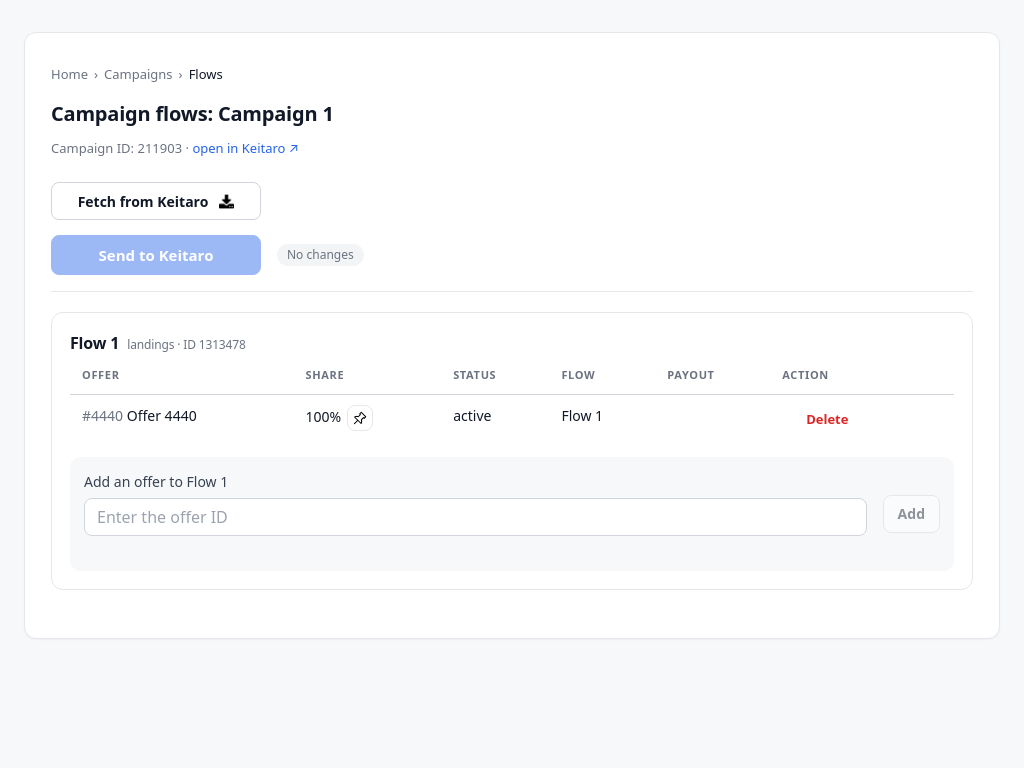
Test case: StreamsContent — weight pins › PUT pins error (500): rollback — the pin is removed, the error text in the flow card
The width and height of the screenshot is (1024, 768).
Expected: the text "#4440" is shown, left=82, top=406, right=123, bottom=424
Click the button named "Pin the weight of offer #4440 in flow Flow 1" at (360, 418), box left=347, top=404, right=373, bottom=430
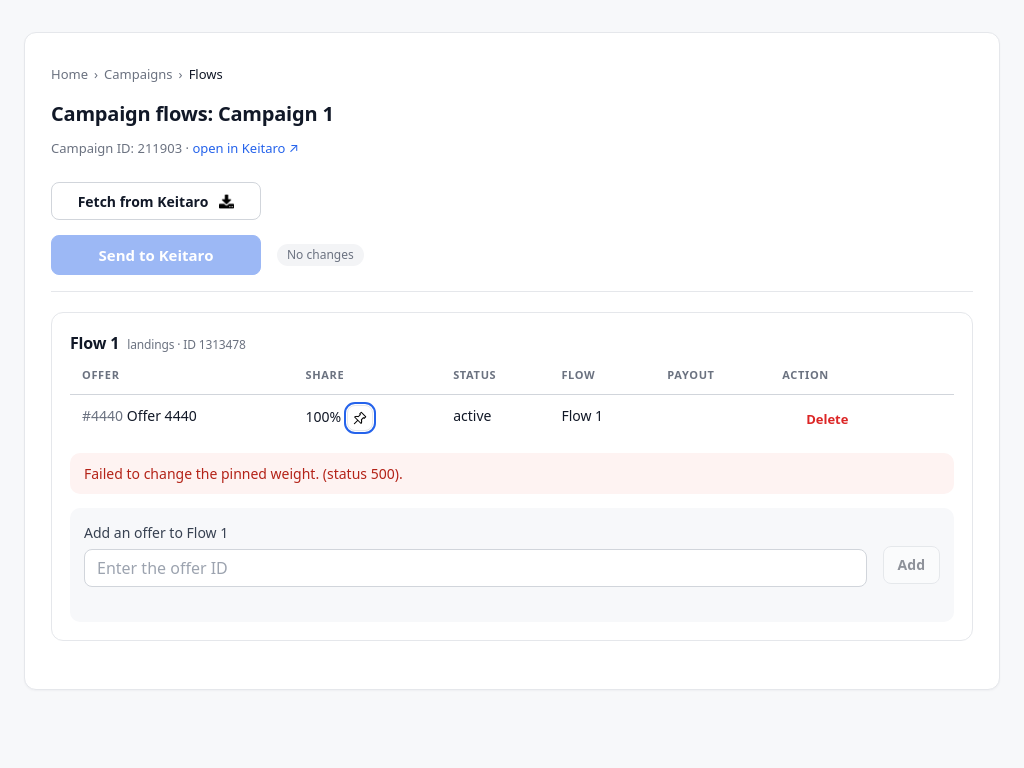
Expected: the text "Failed to change the pinned weight. (status 500)." is shown, left=70, top=452, right=954, bottom=494
